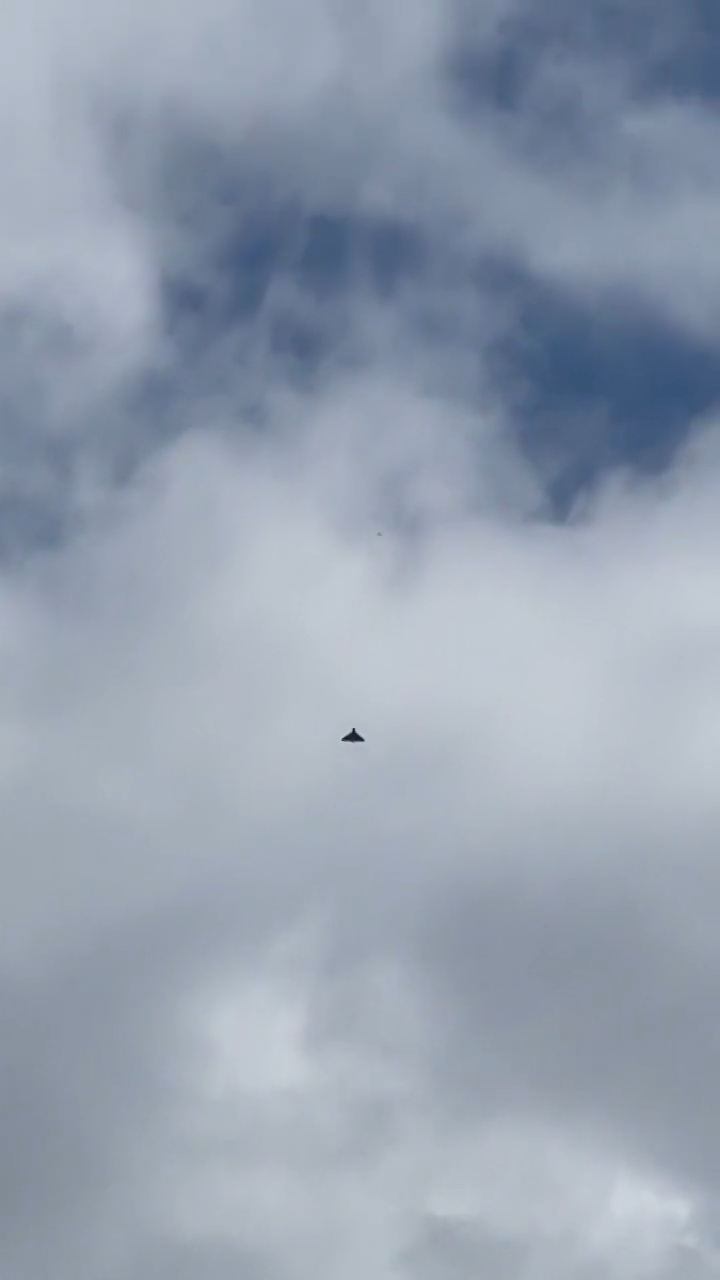shahed: (340, 727, 366, 745)
